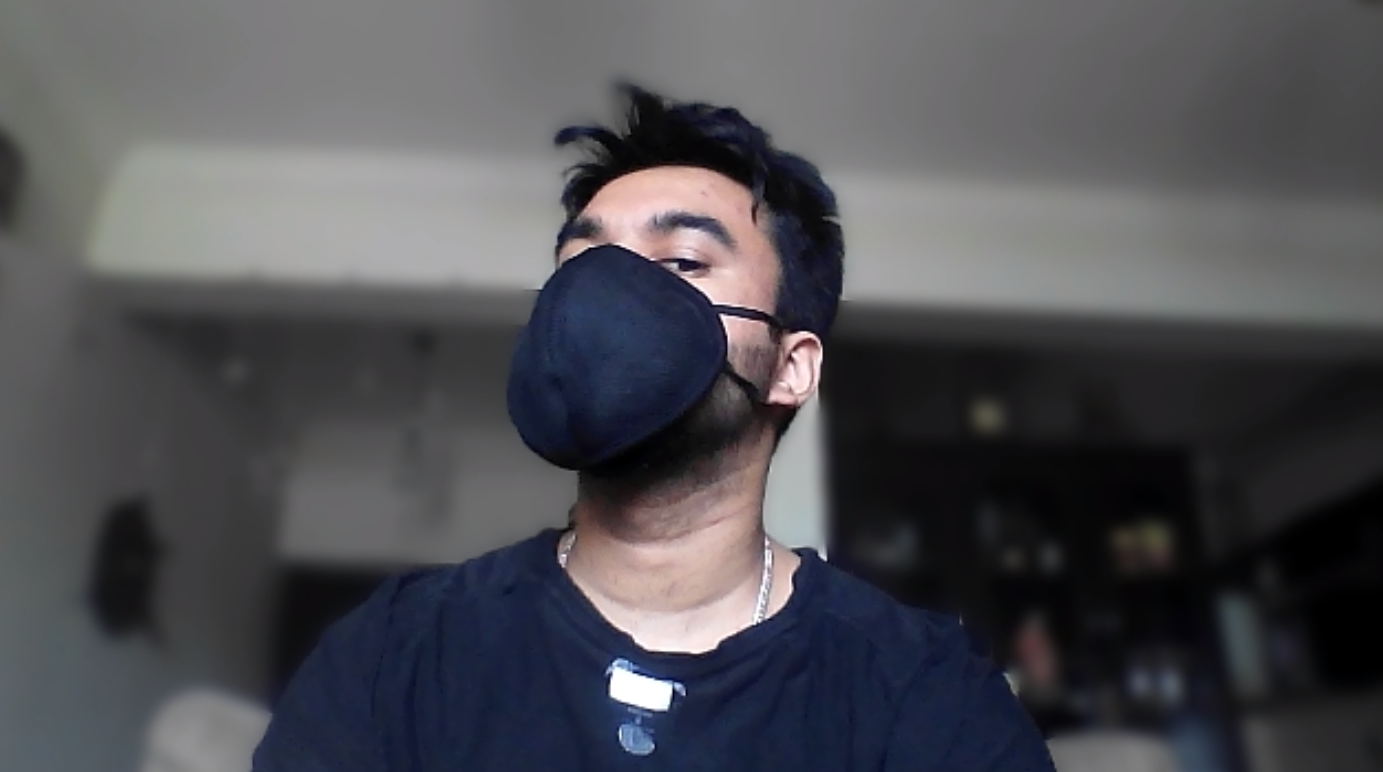Mask: (511, 260, 807, 477)
